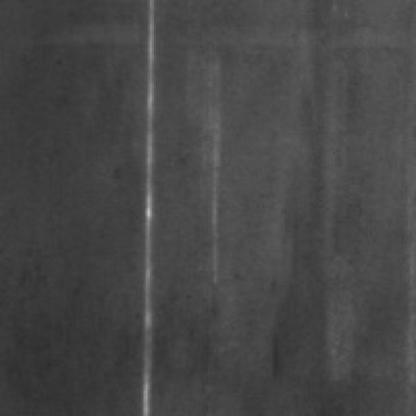scratches: (131, 2, 158, 414)
